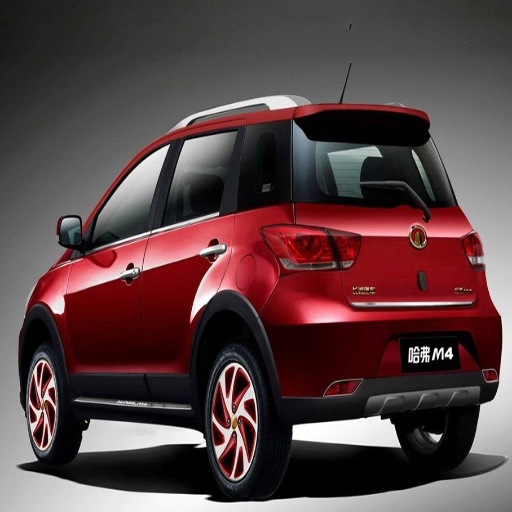back_bumper: (275, 269, 504, 407)
back_glass: (307, 116, 450, 206)
back_left_door: (143, 129, 234, 401)
trunk: (315, 209, 477, 344)
